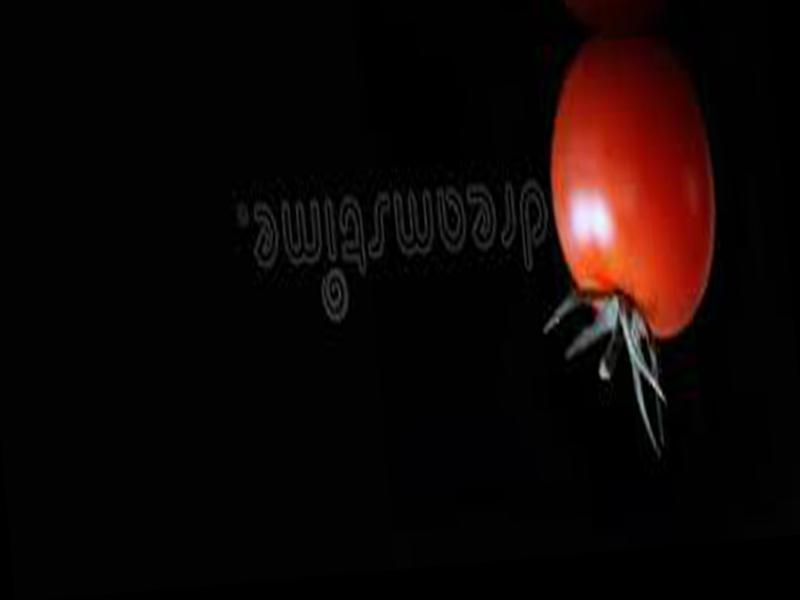Tomato: (539, 31, 725, 349)
